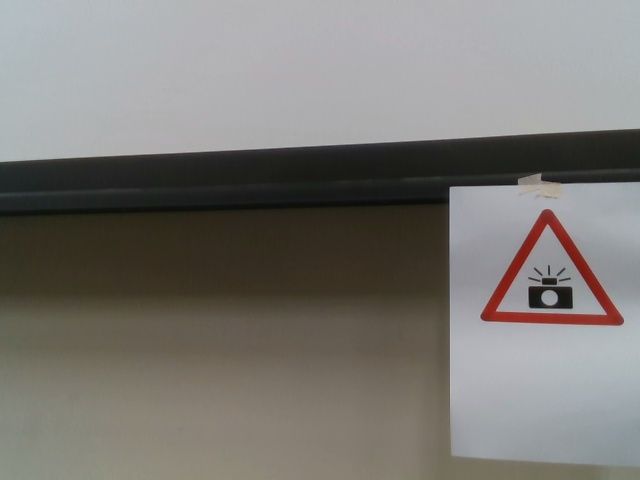camera: (477, 207, 627, 332)
